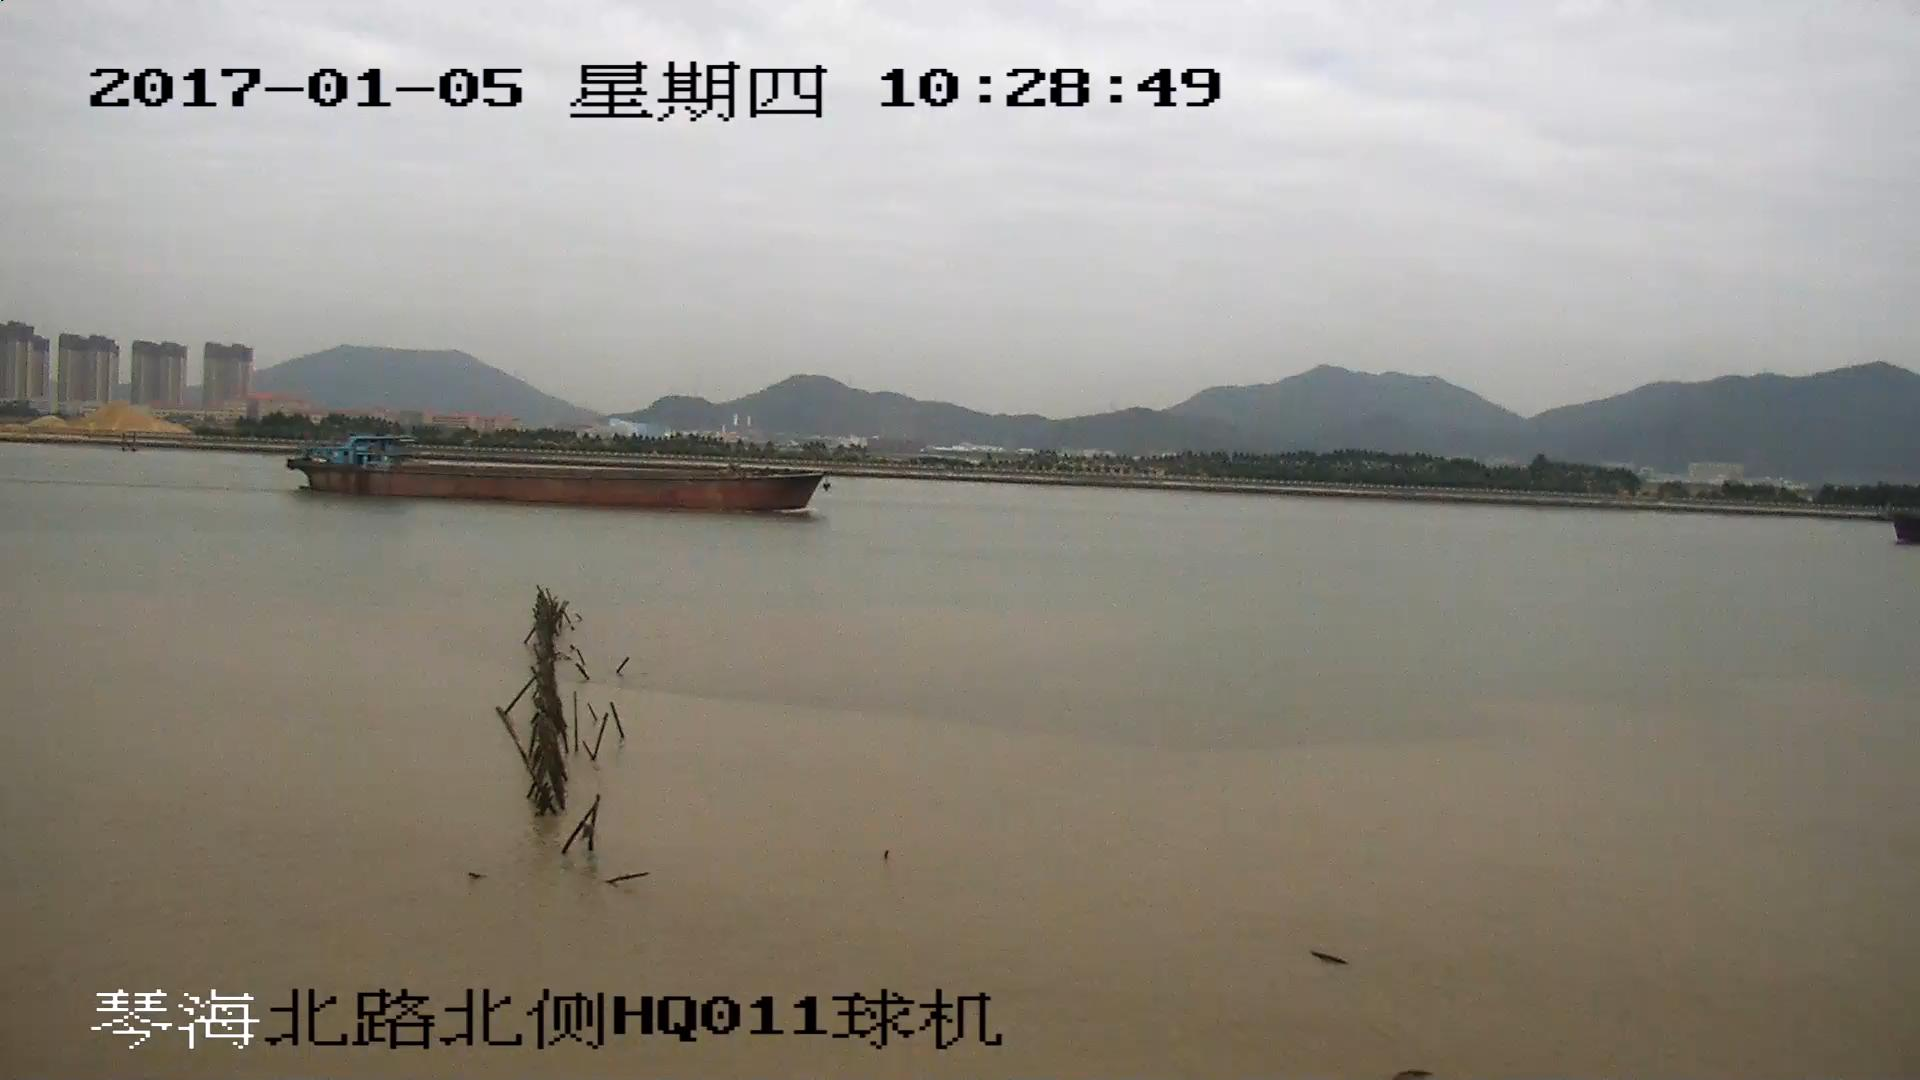bulk cargo carrier: (285, 432, 831, 513)
